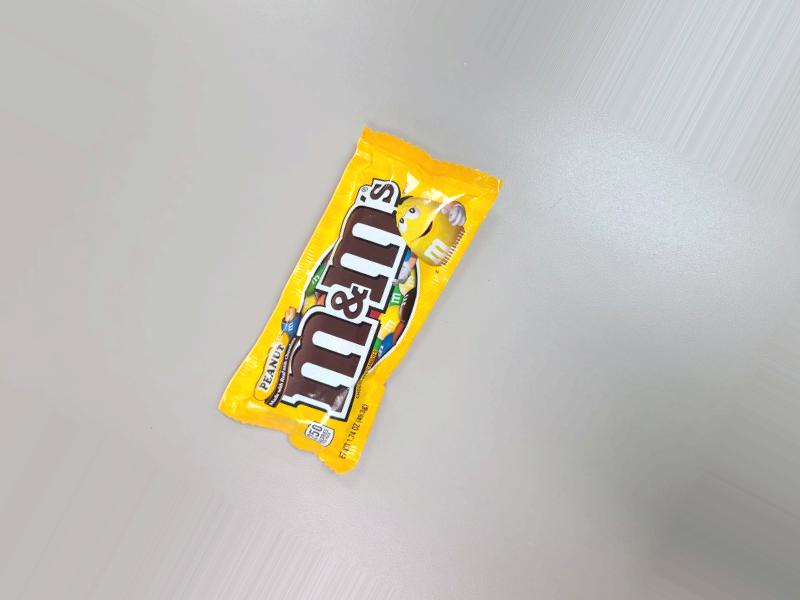m&m: (211, 132, 493, 476)
